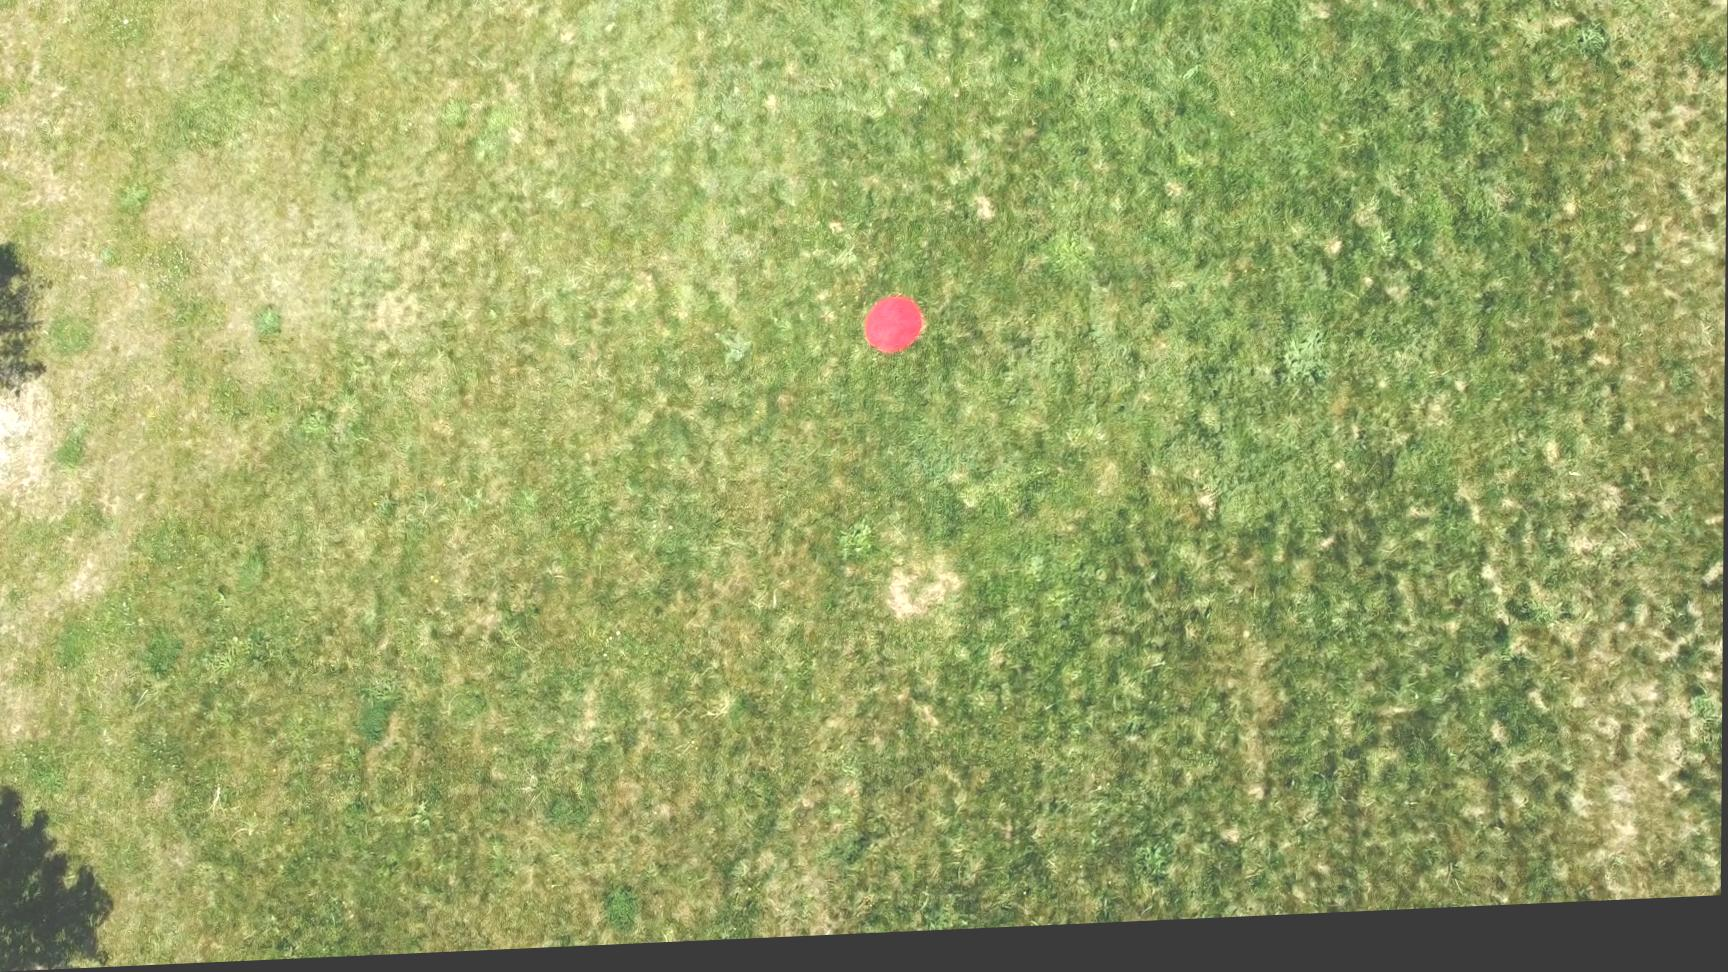Red: (859, 298, 930, 366)
